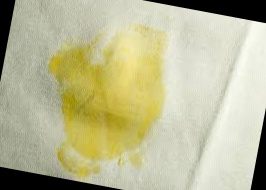mustard: (27, 18, 171, 189)
